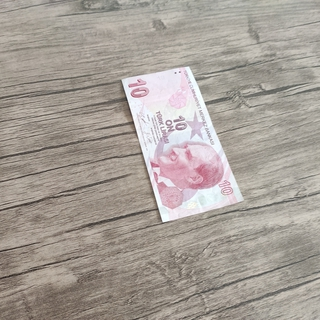10TLFront: (119, 65, 245, 223)
